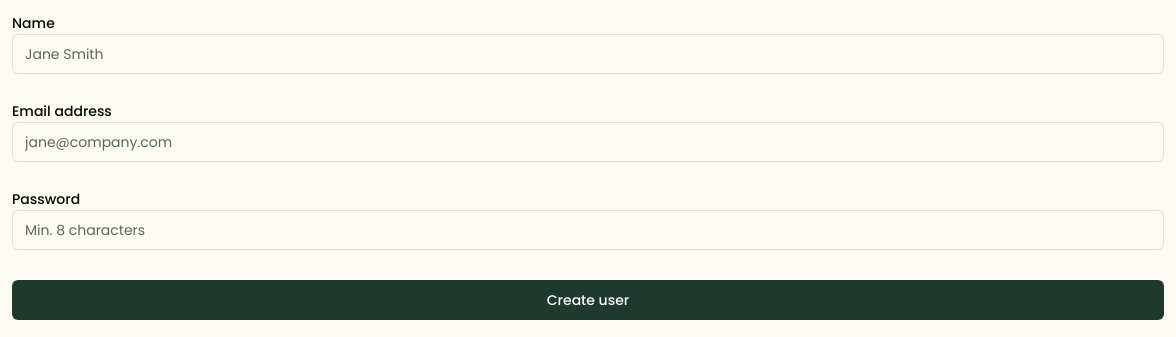
Test case: UserForm — name validation › shows error when name is empty
In the field labelled "Email address": (588, 142) [12,122,1164,162], type "test@example.com"
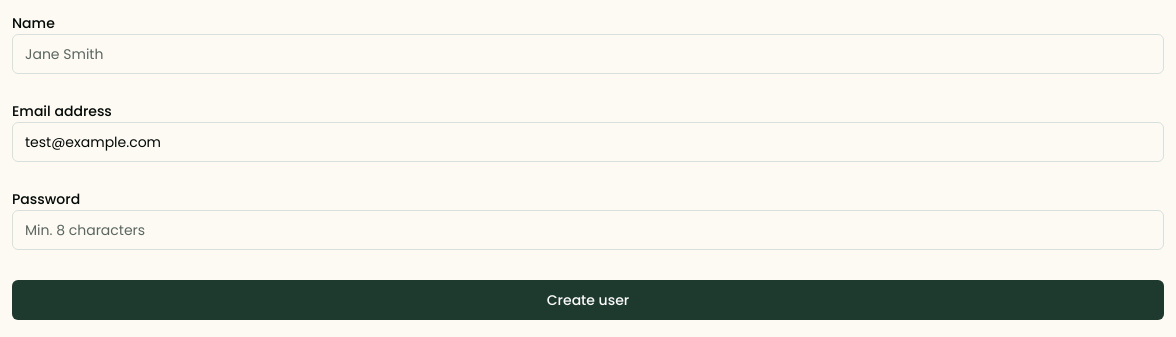
In the password field labelled "Password": (588, 230) [12,210,1164,250], type "password123"
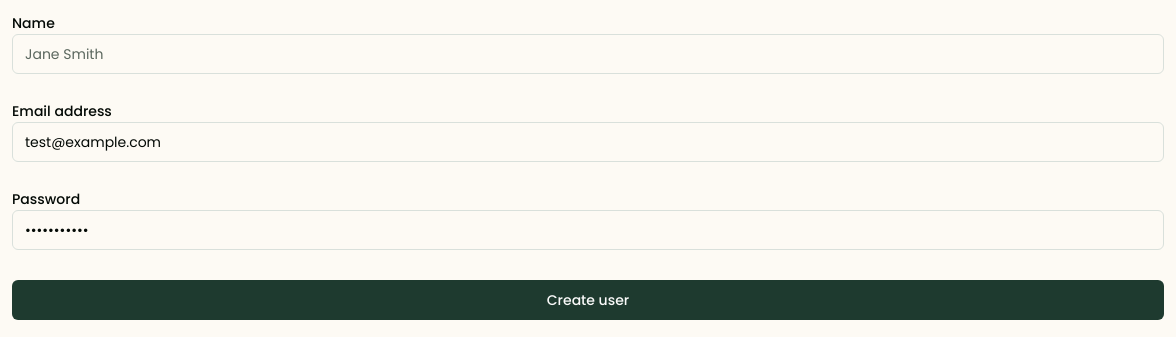
Click the button "Create user": (588, 300) [12,280,1164,320]
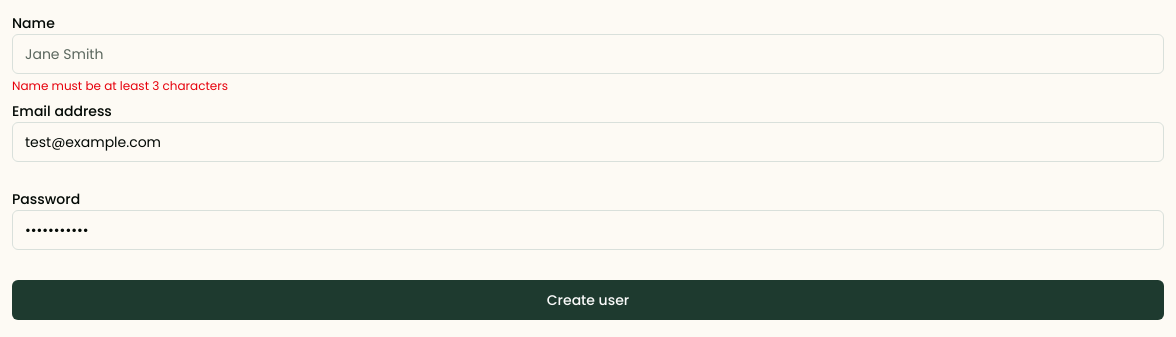
expect the text "Name must be at least 3 characters" is shown: met, box [12,77,228,94]
